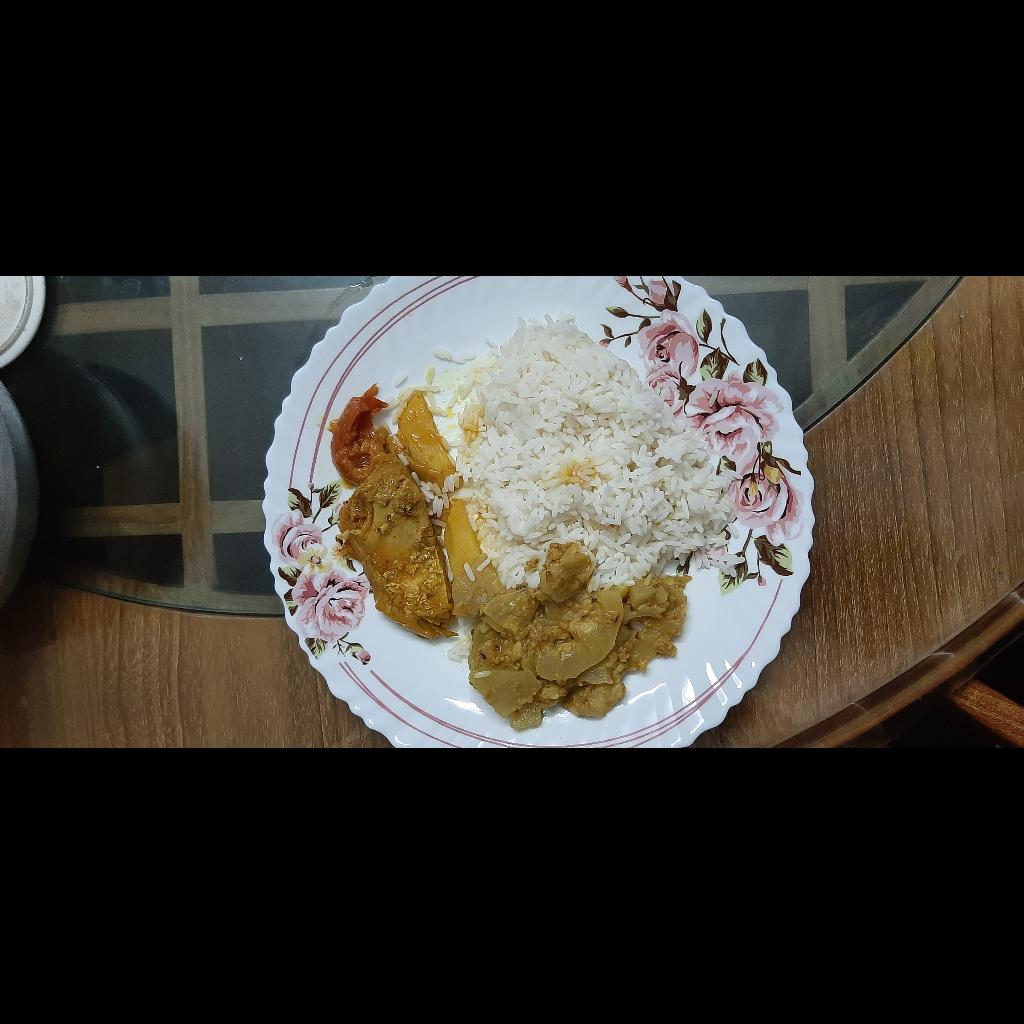fish: (109, 608, 283, 732)
lau: (16, 745, 212, 968)
potato: (129, 710, 248, 765), (264, 673, 348, 735)
rice: (153, 689, 431, 1016)
tomato: (261, 603, 362, 668)
